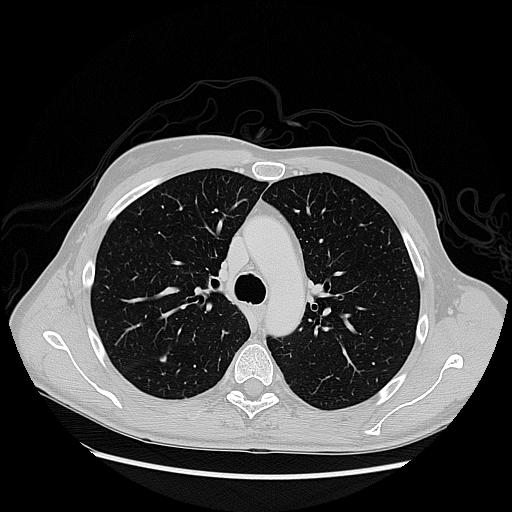nodule: (158, 353, 170, 365)
